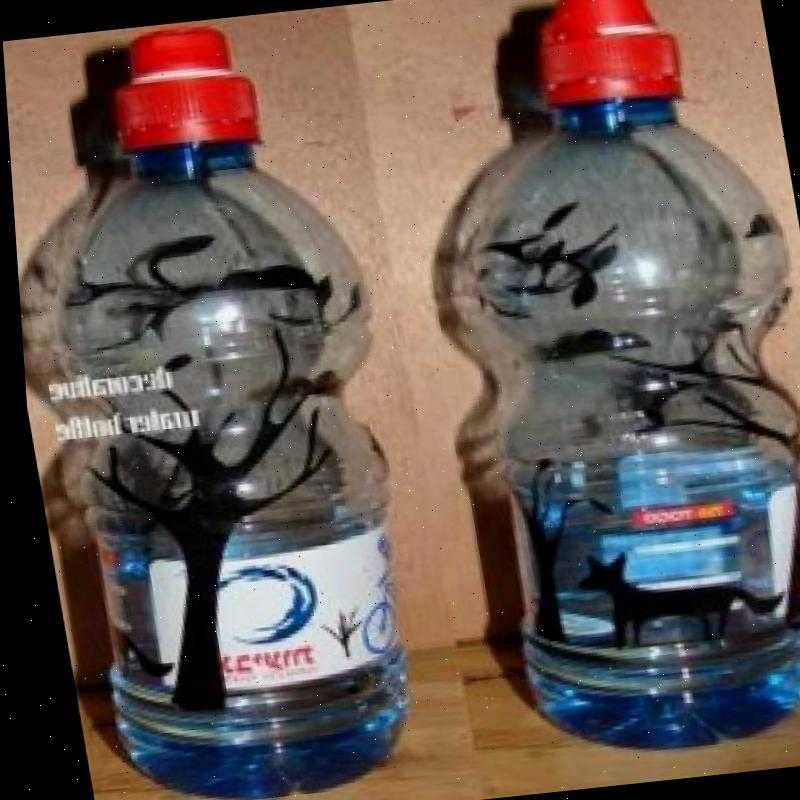botella: (1, 11, 439, 800), (392, 0, 800, 763)
